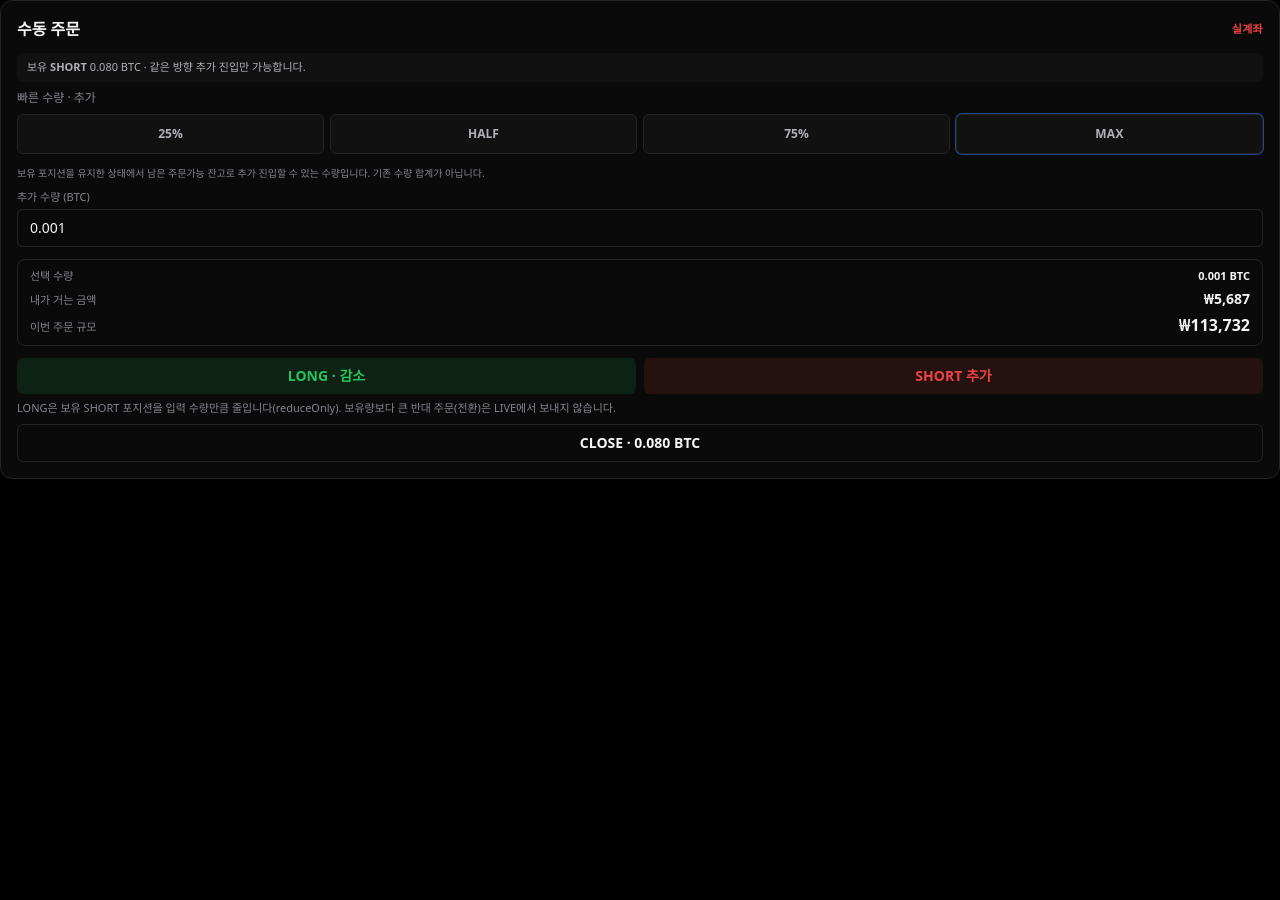
Test: adding to a position already held › names the add-on in the confirmation rather than implying a fresh position
The width and height of the screenshot is (1280, 900).
Click the button with test id "live-short" at [954, 376], box [644,358,1263,394]
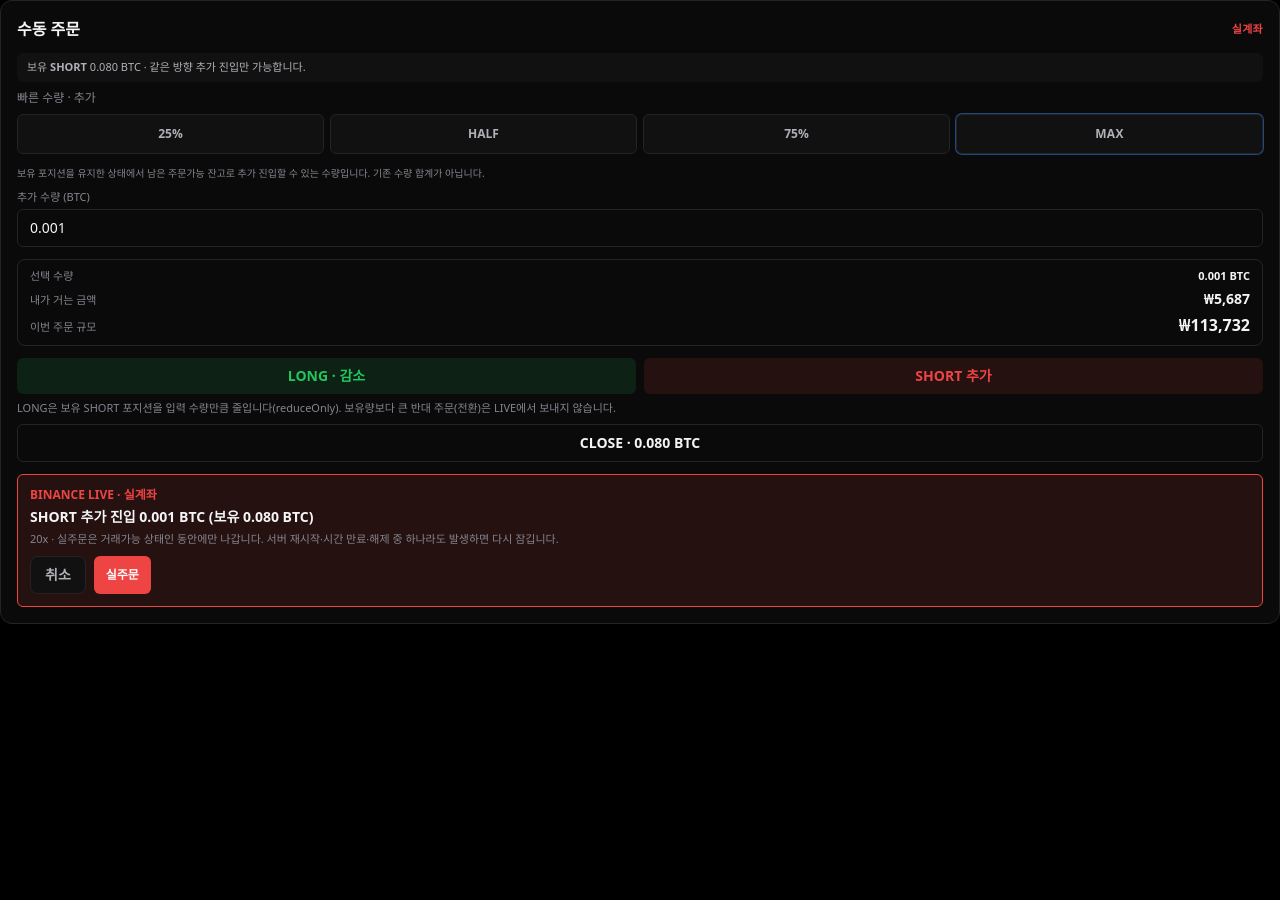
Check: the element with test id "live-confirm" shows "추가 진입", box [30,507,314,526]
Check: the element with test id "live-confirm" shows "보유 0.080 BTC", box [30,507,314,526]
